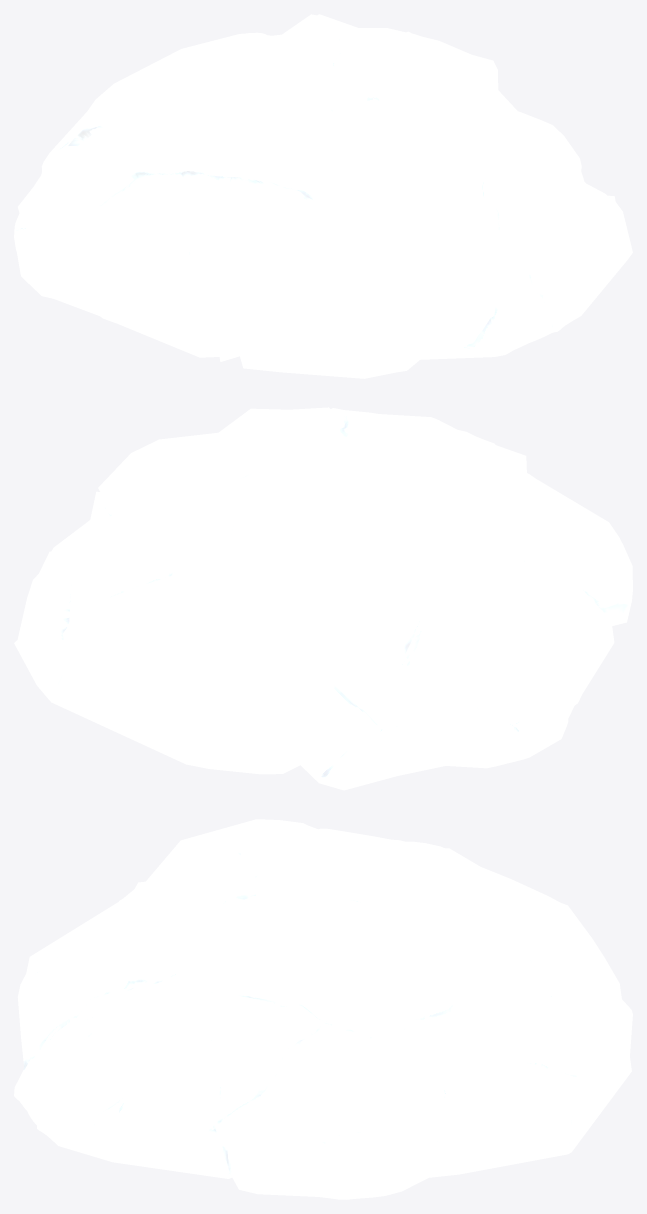
The model's file is rock_angular.glb.
3 renders of one model, top to bottom at view 1: azimuth 30°, elevation 25°; view 2: azimuth 150°, elevation 25°; view 3: azimuth 270°, elevation 25°, orthographic. The views are drawn at different scales.
Bounding box in the file's own units: 1.84 × 0.6336 × 1.83.
Materials: 1 (1 with a texture image).
